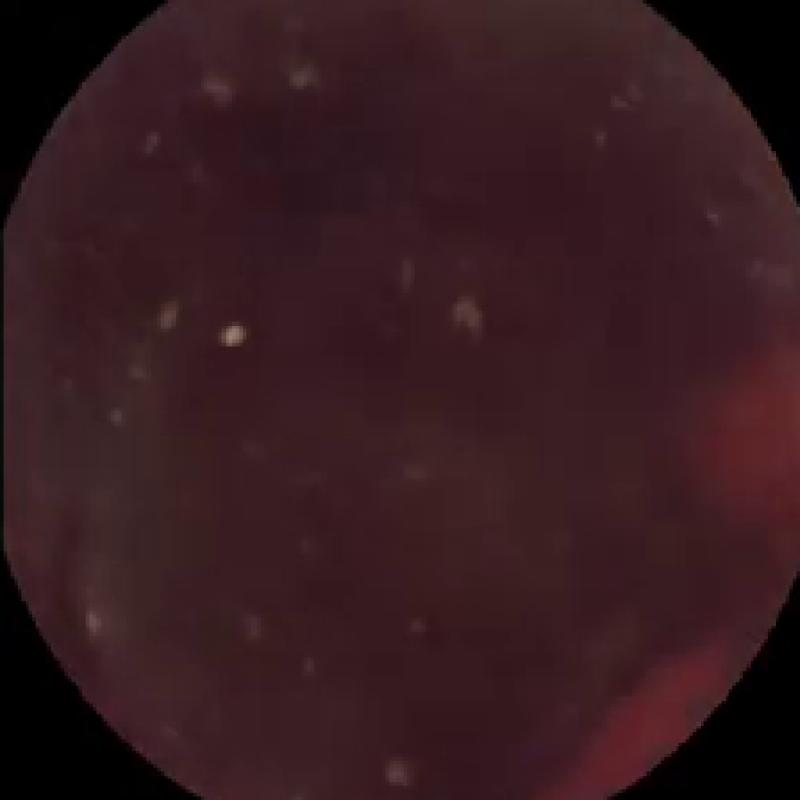bleeding: (560, 343, 800, 800)
